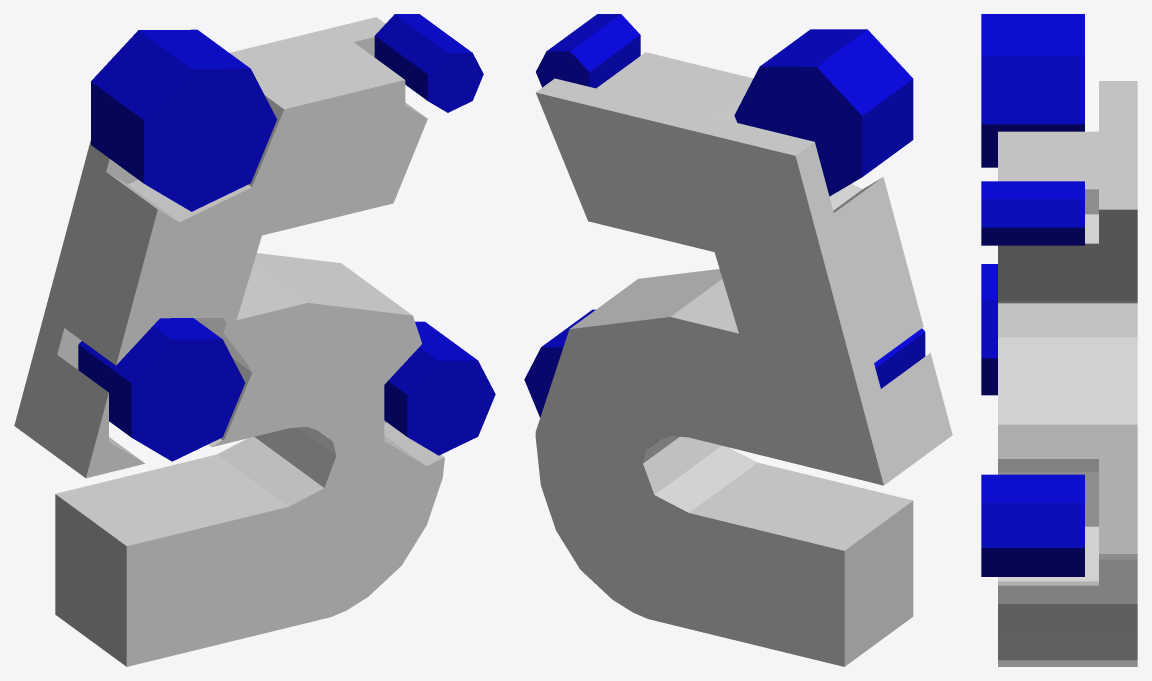
The model's file is Ch_Lite_5_01.fbx.
3 views of the same model, side by side, from view 1: azimuth 30°, elevation 25°; view 2: azimuth 150°, elevation 25°; view 3: azimuth 270°, elevation 25° (orthographic). The views are drawn at different scales.
Parts seen in each view (by area): view 1: sphere1; view 2: sphere1; view 3: sphere1.
Part boxes in pixels (x1,y1,x2,y2): sphere1: [14, 14, 495, 666]; sphere1: [524, 14, 952, 666]; sphere1: [981, 14, 1137, 666].
Size of the model in its own units: 0.6469 by 0.9101 by 0.2242.
